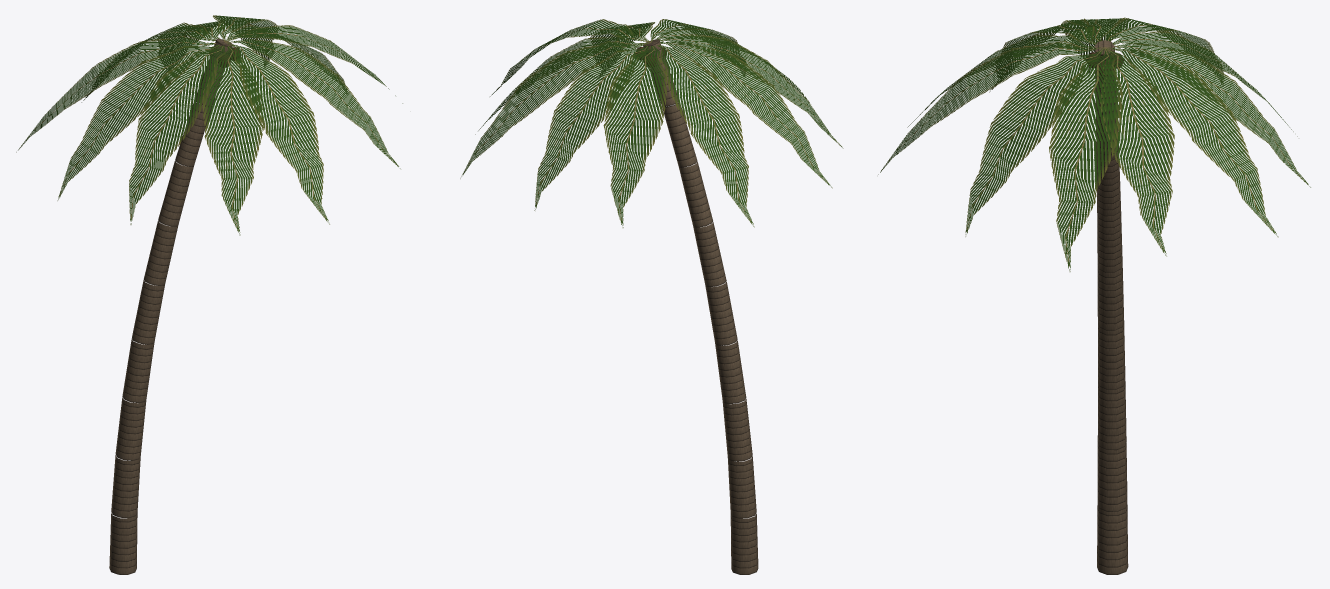
The model's file is SM_Art_Veg_Palm_0.gltf.
3 views of the same model, side by side, from view 1: azimuth 30°, elevation 25°; view 2: azimuth 150°, elevation 25°; view 3: azimuth 270°, elevation 25° (orthographic). The views are drawn at different scales.
Parts seen in each view (by area): view 1: SM_Art_Veg_Palm_0; view 2: SM_Art_Veg_Palm_0; view 3: SM_Art_Veg_Palm_0.
Part boxes in pixels (bbox=[...]): SM_Art_Veg_Palm_0: bbox=[16, 15, 402, 574]; SM_Art_Veg_Palm_0: bbox=[460, 19, 843, 574]; SM_Art_Veg_Palm_0: bbox=[878, 17, 1310, 574].
Bounding box in the file's own units: 5.97 × 8.07 × 5.56.
3 materials, 3 textured.
